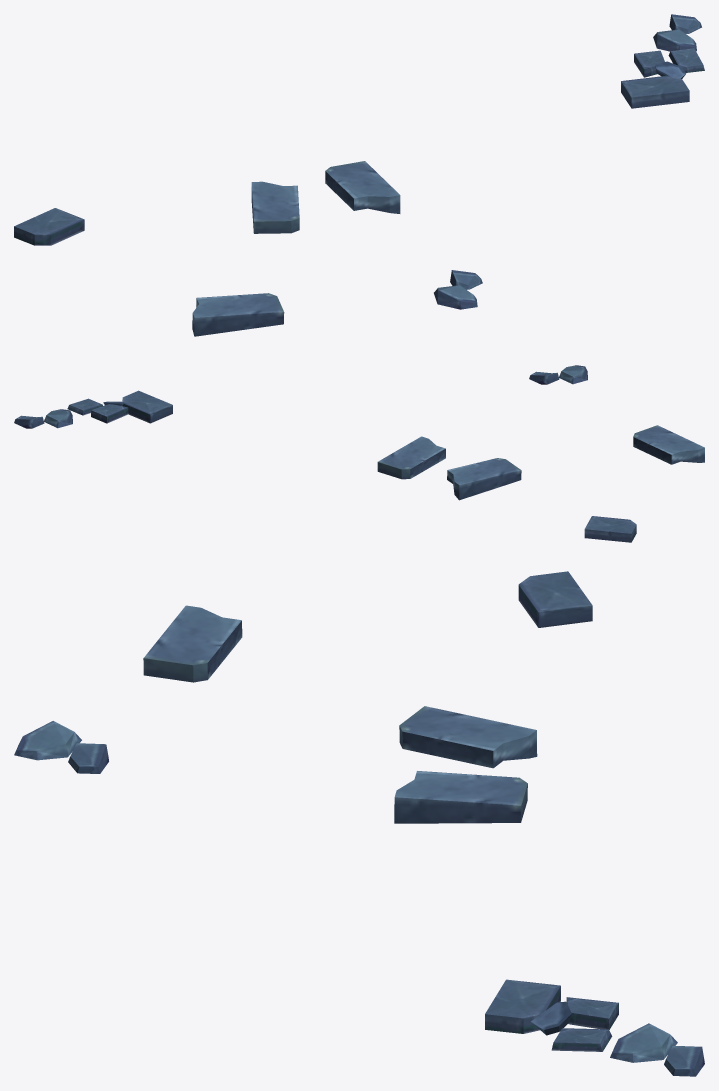
The model's file is Area14_31.fbx.
The picture shows the model from 3 angles, top to bottom: view 1: azimuth 30°, elevation 25°; view 2: azimuth 150°, elevation 25°; view 3: azimuth 270°, elevation 25°; orthographic projection. The views are drawn at different scales.
Visible parts, largest first — view 1: Area14_31; view 2: Area14_31; view 3: Area14_31.
Part boxes in pixels (<box>): Area14_31: <box>14,14,704,336</box>; Area14_31: <box>14,365,704,542</box>; Area14_31: <box>14,571,704,1076</box>.
Size of the model in its own units: 2781 by 120 by 1632.
1 material, 1 textured.
